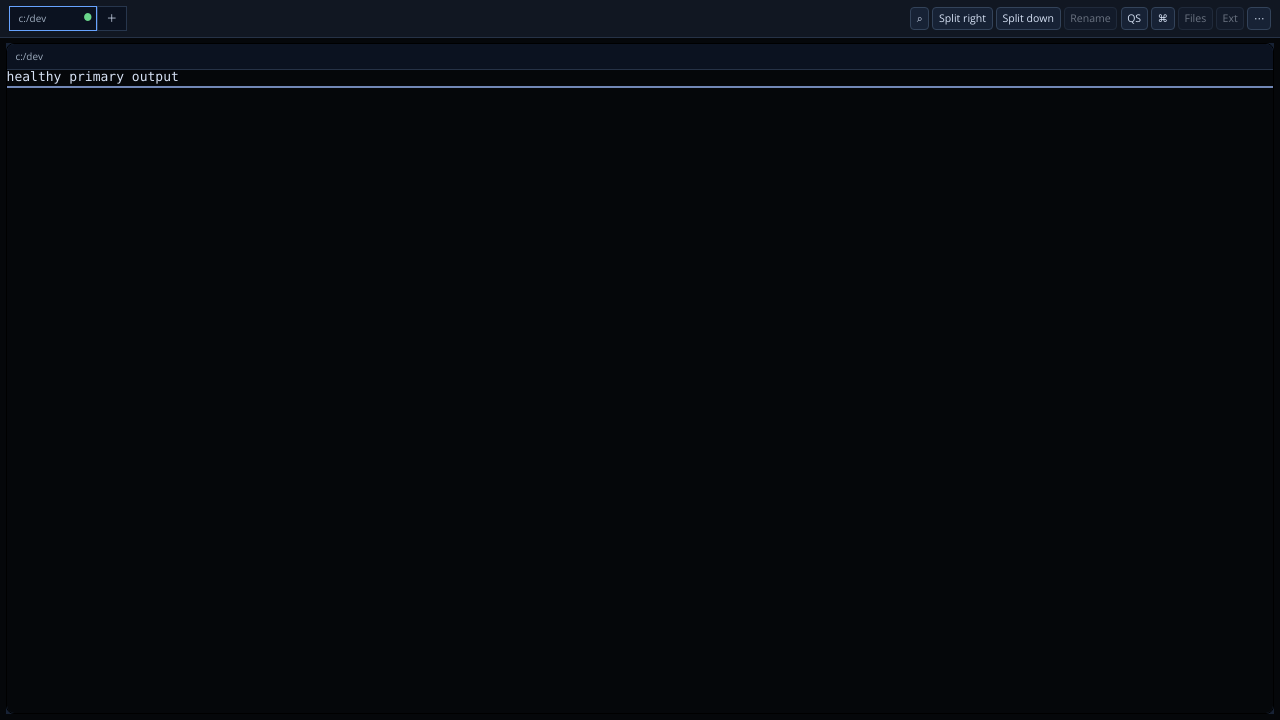
Scenario: persistent terminal presentation preserves workbench contracts › scopes split exit to its pane and preserves the notice on reopen
Click the button with aria-label "Split terminal pane right" at (963,18), box [932,7,993,30]
Wait 1201 ms
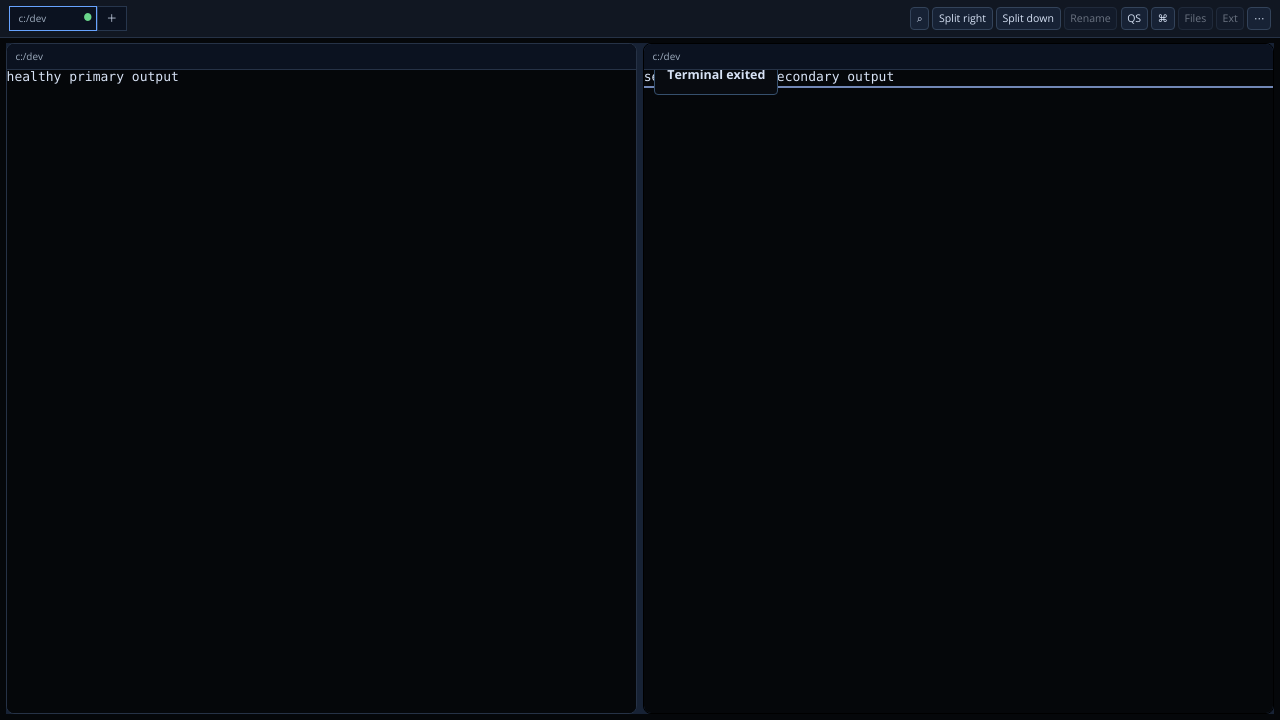
Expected: the element showing "healthy primary output" is shown, [7,70,636,713]
Now the message reads "Terminal exited", box [667,66,765,83]
Now the element named "Terminal output" shows "secondary output", box [644,70,894,85]
